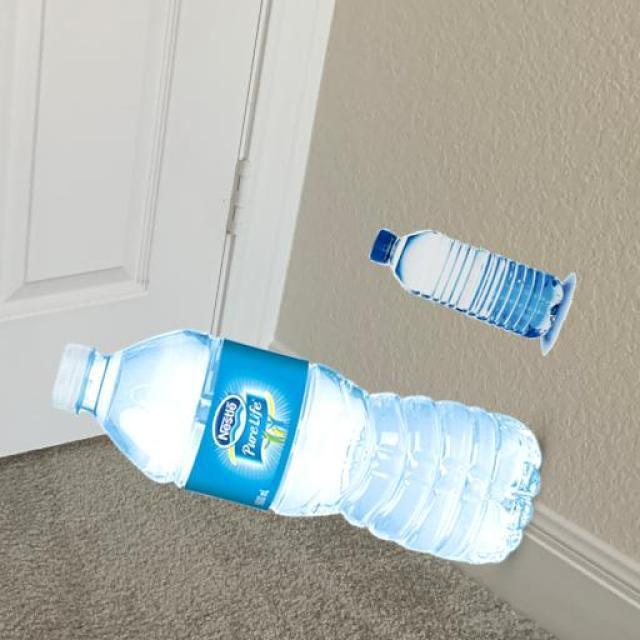bottle: (50, 326, 542, 565), (368, 225, 576, 356)
